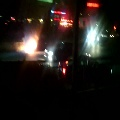fire: (17, 34, 38, 54)
